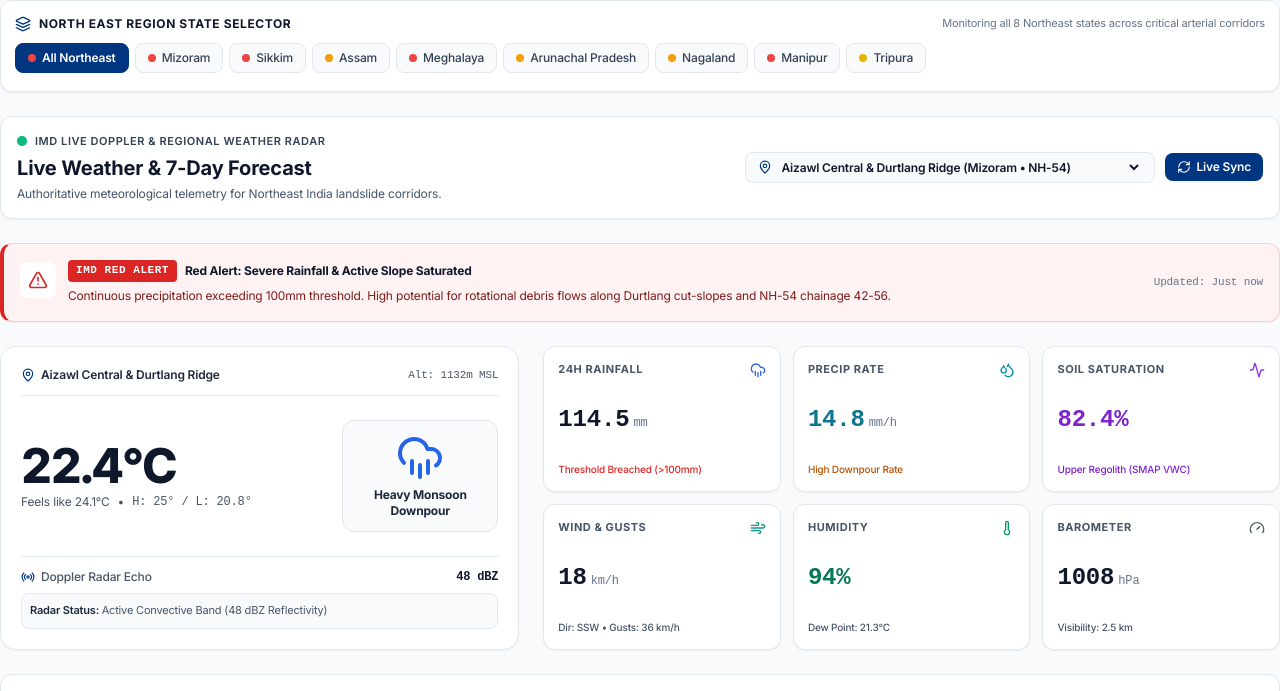
Scenario: Live Weather & 7-Day Forecasting Telemetry › allows filtering and switching across Northeast states (Assam, Meghalaya, Sikkim)
Note: Switch to Assam
Click the button with aria-label "Filter by Assam": (351,58) [312,43,390,73]
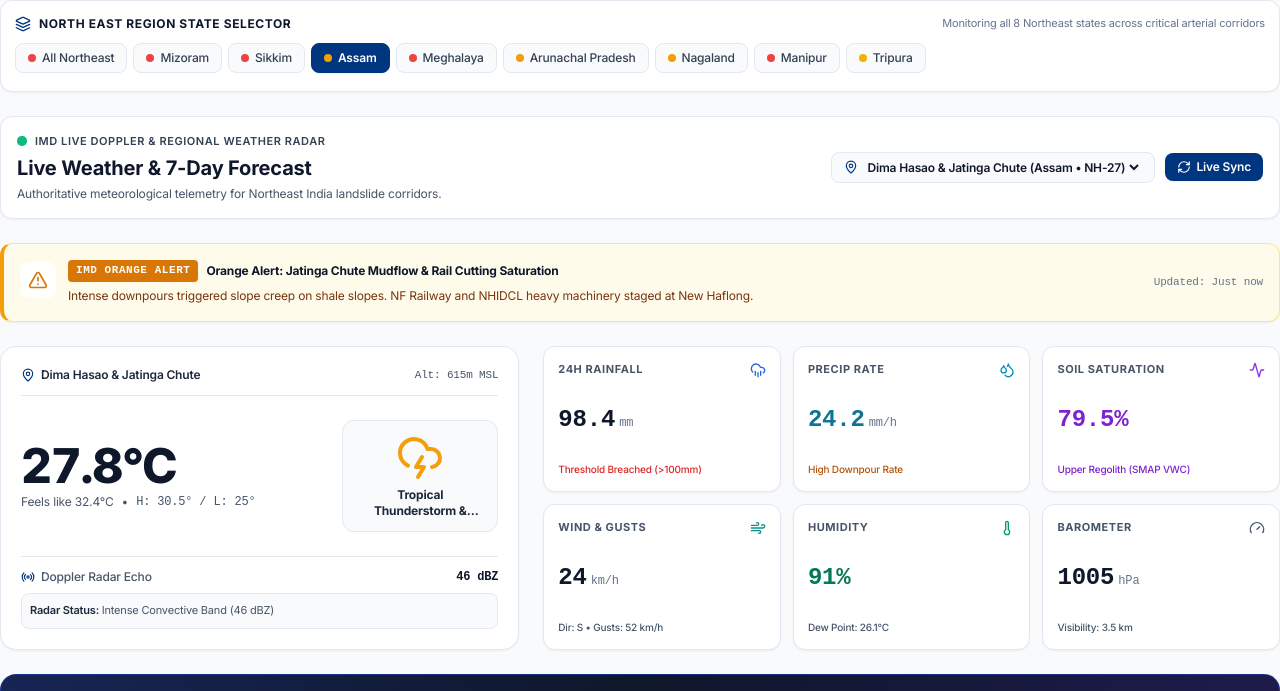
Check: the text "Alt: 615m MSL" is shown, box [415,367,498,383]
Note: Switch to Meghalaya
Click the button with aria-label "Filter by Meghalaya": (446,58) [396,43,497,73]
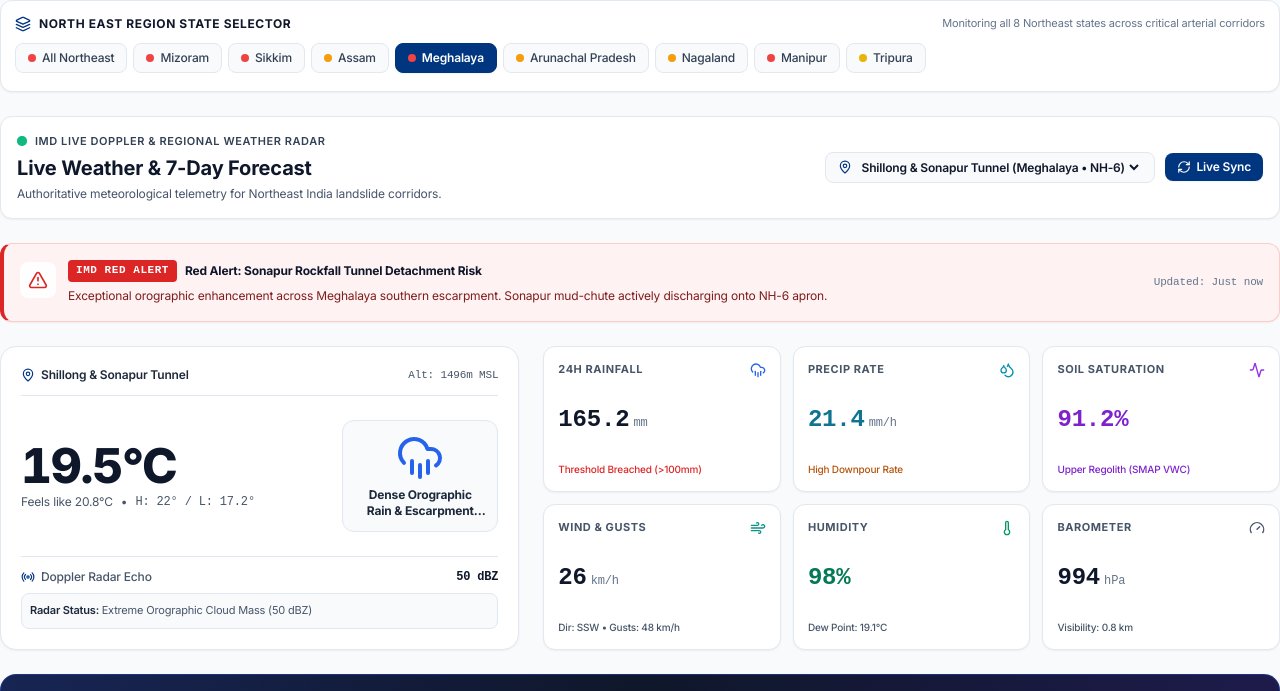
Check: the text "165.2mm" is shown, box [558,406,648,433]
